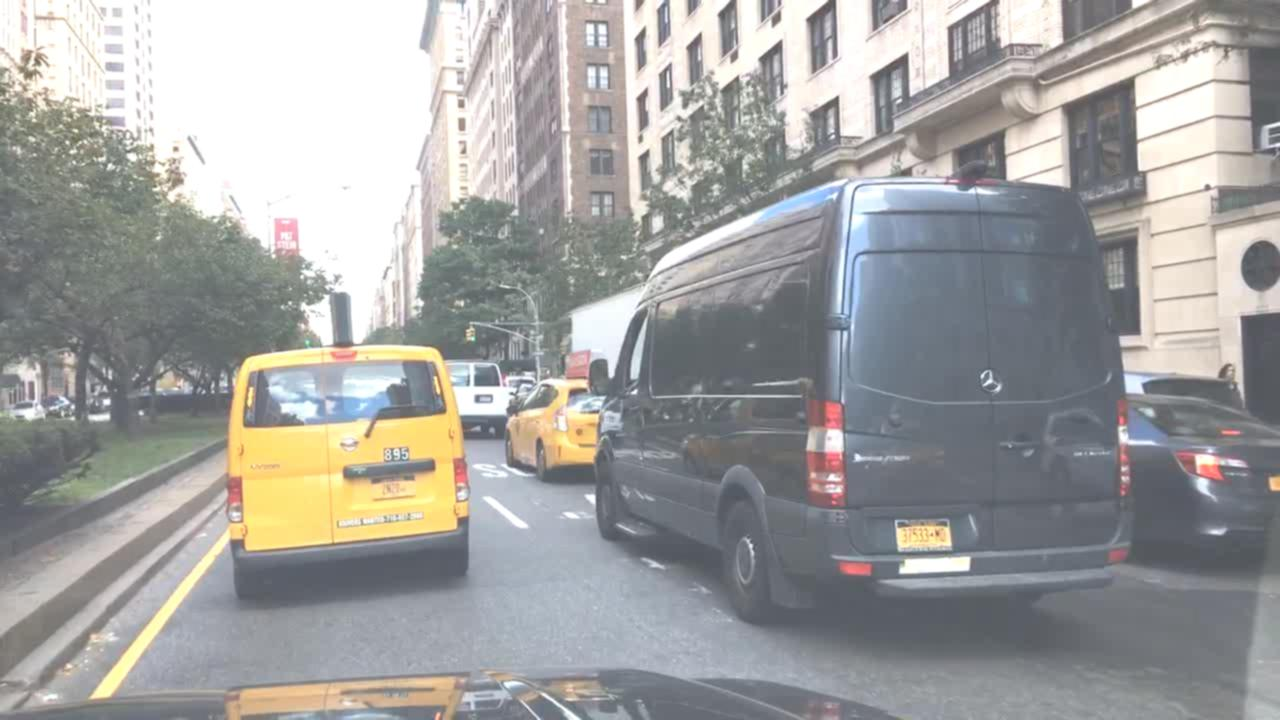Mercedes: (978, 363, 1007, 399)
Nissan: (340, 436, 360, 454)
